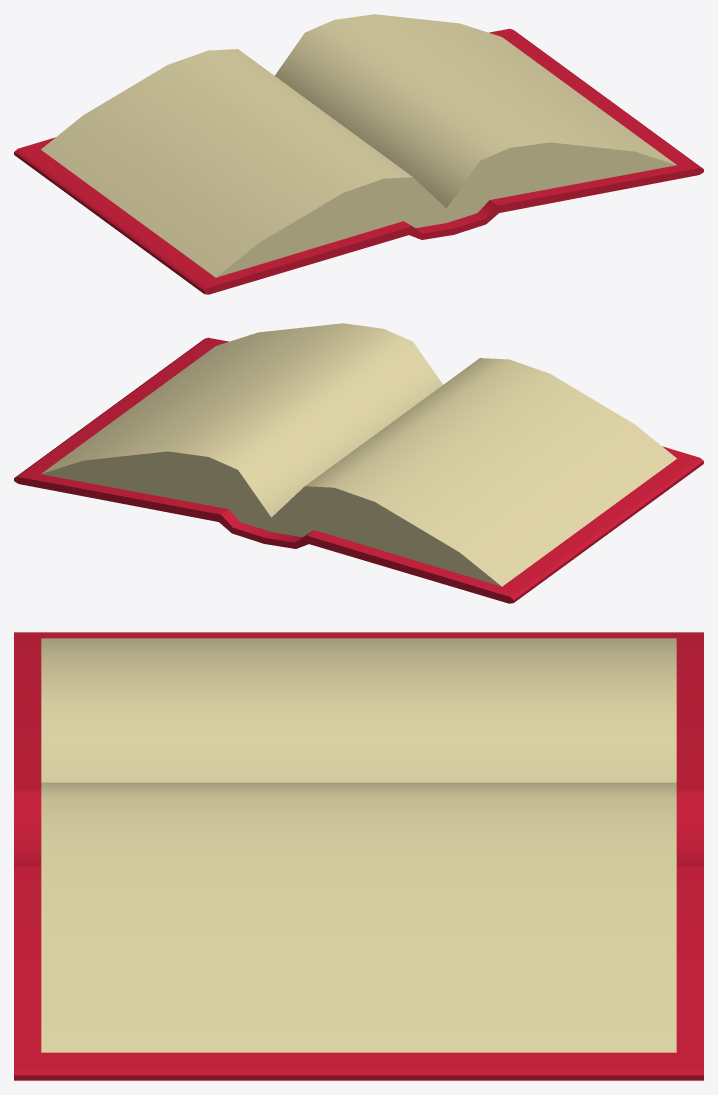
The model's file is bookopen.fbx.
The picture shows the model from 3 angles, top to bottom: view 1: azimuth 30°, elevation 25°; view 2: azimuth 150°, elevation 25°; view 3: azimuth 270°, elevation 25°; orthographic projection. The views are drawn at different scales.
Parts seen in each view (by area): view 1: book_open; view 2: book_open; view 3: book_open.
Boxes of the visible parts, left/top/right/bottom form: book_open: left=14, top=14, right=703, bottom=294; book_open: left=14, top=323, right=703, bottom=603; book_open: left=14, top=632, right=703, bottom=1080.
Size of the model in its own units: 40.21 by 5.08 by 26.49.
